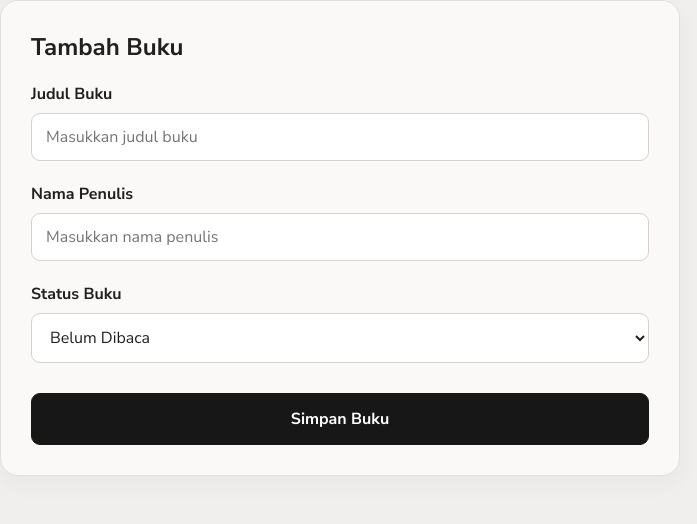
Scenario: BookForm › menampilkan error jika penulis kosong
Type "Laskar Pelangi" into the field labelled "Judul Buku".
click(340, 137); type("Laskar Pelangi")  # box top-left (31, 113), bottom-right (649, 161)
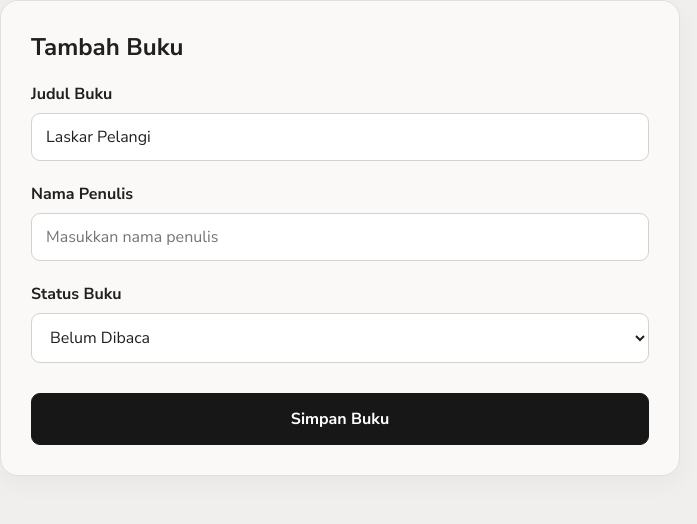
Click the button "Simpan Buku".
click(340, 419)  # box top-left (31, 393), bottom-right (649, 445)
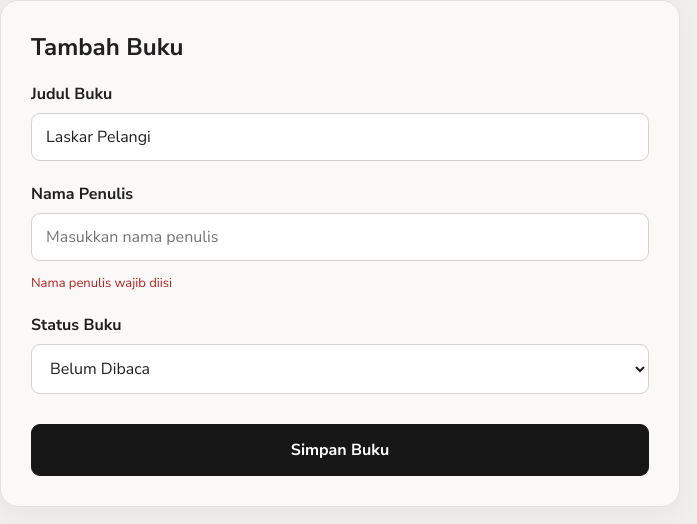
Now the text "Nama penulis wajib diisi" is shown, box top-left (31, 274), bottom-right (172, 292)
